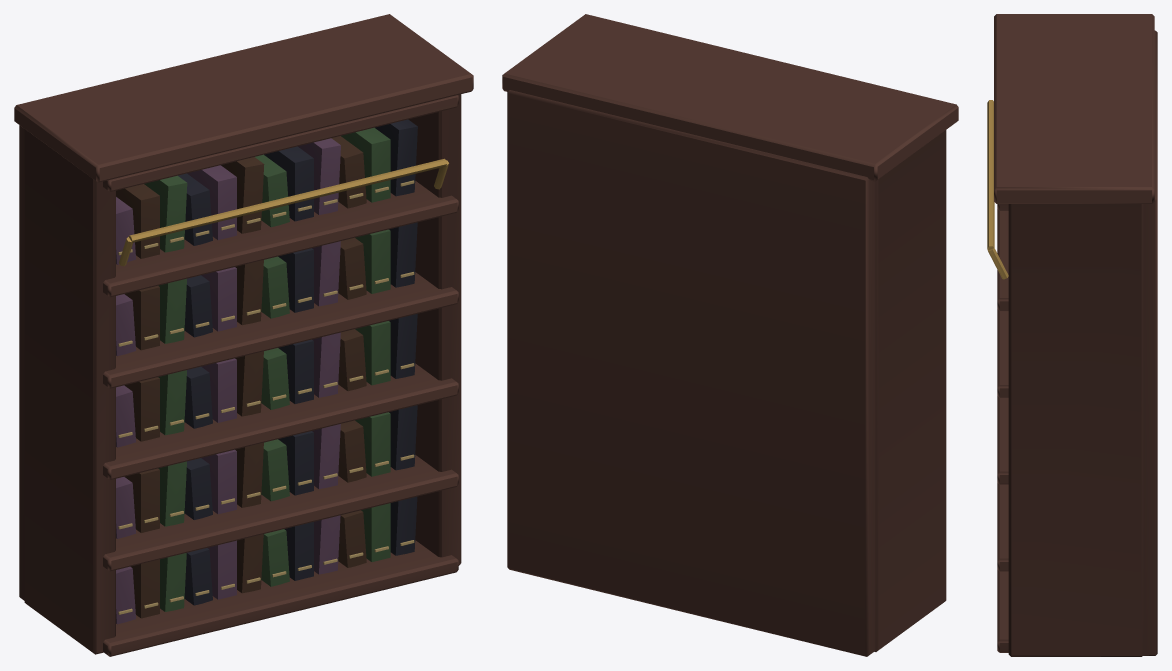
Rendered from bookshelf_grand.glb.
3 views of the same model, side by side, from view 1: azimuth 30°, elevation 25°; view 2: azimuth 150°, elevation 25°; view 3: azimuth 270°, elevation 25° (orthographic). The views are drawn at different scales.
Visible parts, largest first — view 1: bookshelf_grand; view 2: bookshelf_grand; view 3: bookshelf_grand.
Part boxes in pixels (x1=…): bookshelf_grand: x1=14, y1=14, x2=473, y2=656; bookshelf_grand: x1=502, y1=14, x2=958, y2=656; bookshelf_grand: x1=987, y1=14, x2=1157, y2=656.
Size of the model in its own units: 1.99 by 2.5 by 0.818.
